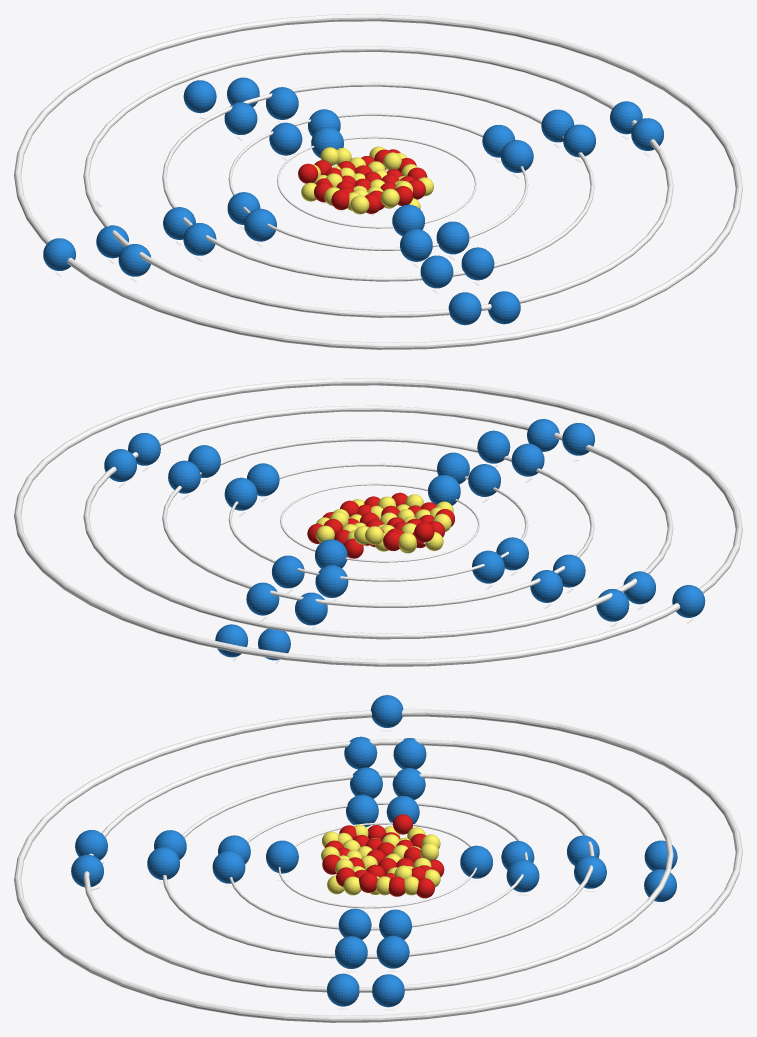
3 renders of one model, top to bottom at view 1: azimuth 30°, elevation 25°; view 2: azimuth 150°, elevation 25°; view 3: azimuth 270°, elevation 25°, orthographic.
Parts seen in each view (by area): view 1: Torus.005, Torus.004, Torus.003, Torus.002, Torus.001, g.014, g.015, g.007, g.021, g.022, g.006, g.008 (+20 smaller); view 2: Torus.005, Torus.004, Torus.003, Torus.002, Torus.001, g.015, g.014, g.006, g.009, g.004, g.008, g.017 (+20 smaller); view 3: Torus.005, Torus.004, Torus.003, Torus.002, Torus.001, g.012, g.023, g.025, g.013, g.001, g.007, g (+20 smaller).
Boxes of the visible parts, box(x1,y1,x2,y2) form: Torus.005: box(14, 14, 742, 349); Torus.004: box(83, 46, 673, 317); Torus.003: box(162, 82, 594, 281); Torus.002: box(228, 113, 528, 250); Torus.001: box(277, 136, 476, 228); g.014: box(420, 255, 453, 288); g.015: box(461, 247, 494, 280); g.007: box(436, 221, 469, 254); g.021: box(183, 80, 216, 113); g.022: box(448, 292, 481, 325); g.006: box(400, 229, 432, 261); g.008: box(269, 122, 302, 155); Torus.005: box(14, 378, 742, 666); Torus.004: box(83, 405, 673, 639); Torus.003: box(162, 437, 594, 607); Torus.002: box(228, 463, 528, 581); Torus.001: box(280, 483, 479, 562); g.015: box(477, 430, 510, 463); g.014: box(511, 443, 544, 476); g.006: box(468, 464, 500, 496); g.009: box(271, 555, 304, 588); g.004: box(224, 477, 257, 510); g.008: box(315, 565, 348, 597); g.017: box(246, 582, 279, 615); Torus.005: box(14, 709, 742, 1022); Torus.004: box(83, 739, 673, 992); Torus.003: box(162, 773, 594, 958); Torus.002: box(229, 801, 528, 930); Torus.001: box(278, 822, 476, 908); g.012: box(376, 935, 409, 968); g.023: box(327, 973, 359, 1006); g.025: box(372, 974, 404, 1007); g.013: box(335, 936, 367, 968); g.001: box(266, 840, 298, 873); g.007: box(212, 850, 245, 883); g: box(460, 845, 492, 878).
Bounding box in the file's own units: 22.37 × 2.27 × 21.89.
